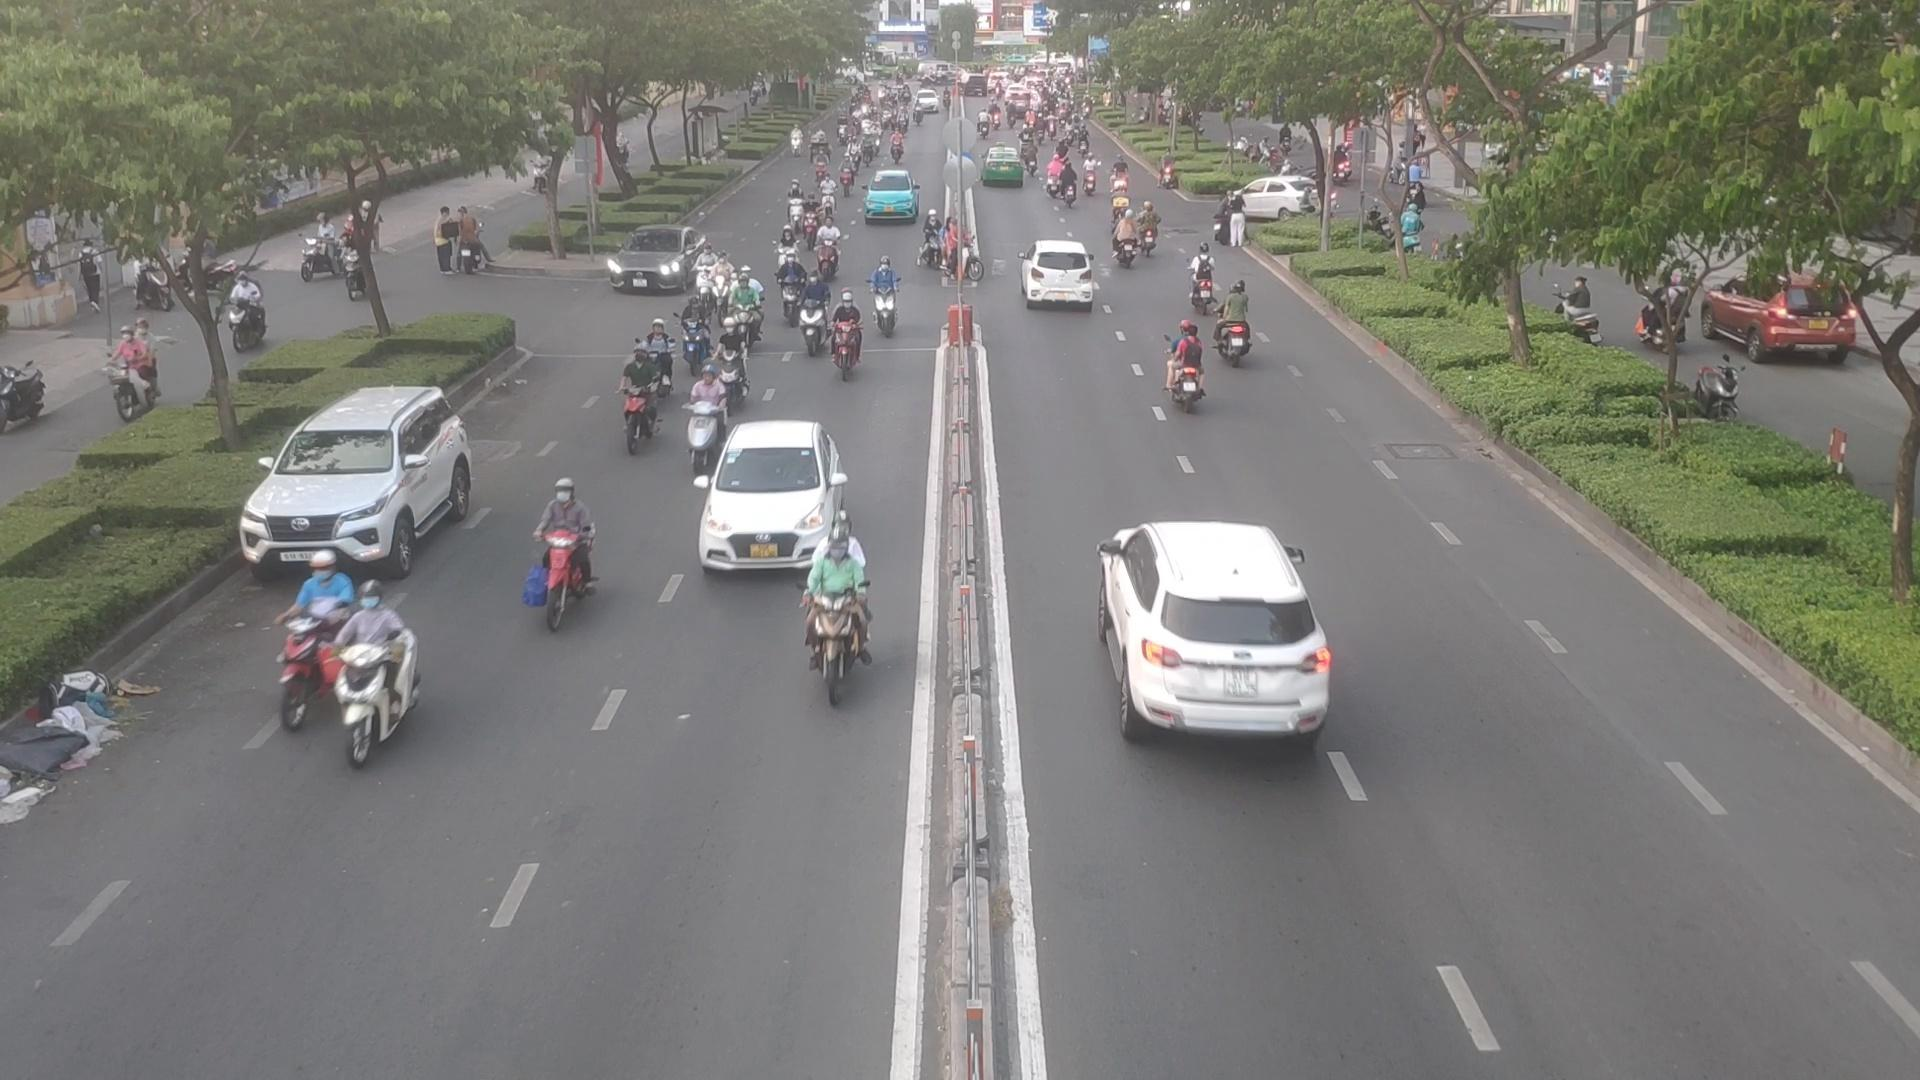car: (1091, 520, 1335, 742), (235, 385, 487, 579), (698, 425, 847, 571), (607, 227, 709, 295), (1026, 239, 1100, 307), (1226, 178, 1313, 223), (862, 171, 920, 225)
motorbike: (804, 524, 895, 704), (270, 560, 367, 731), (344, 588, 425, 752), (530, 488, 603, 622), (686, 371, 742, 484), (618, 332, 665, 448), (1168, 331, 1215, 425), (634, 310, 679, 385), (719, 319, 753, 414), (948, 222, 993, 290), (862, 258, 903, 334), (673, 297, 709, 367), (1221, 278, 1251, 363), (731, 273, 764, 349), (709, 247, 737, 326), (1104, 207, 1138, 268), (778, 257, 808, 324), (837, 302, 864, 377), (804, 273, 825, 353), (816, 175, 848, 228), (775, 219, 802, 281), (688, 244, 716, 301), (918, 211, 942, 270), (1192, 249, 1215, 309), (1138, 210, 1159, 264), (785, 181, 807, 231), (818, 223, 837, 277), (804, 196, 822, 248)
